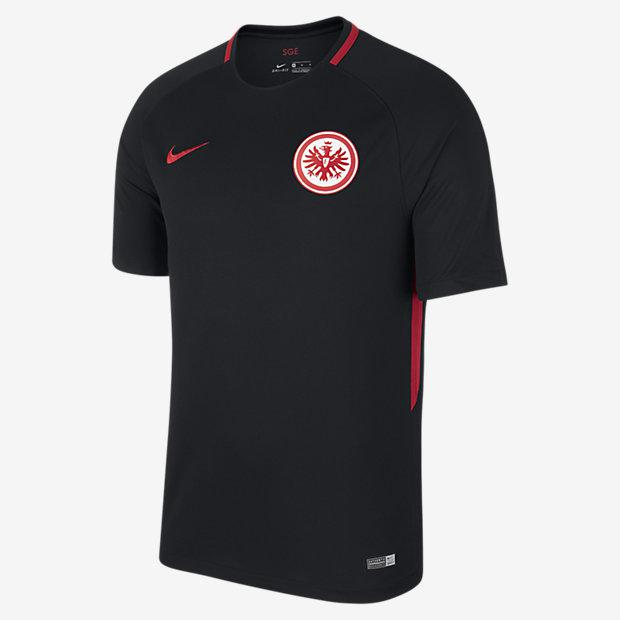teeshirt: (85, 16, 509, 614)
